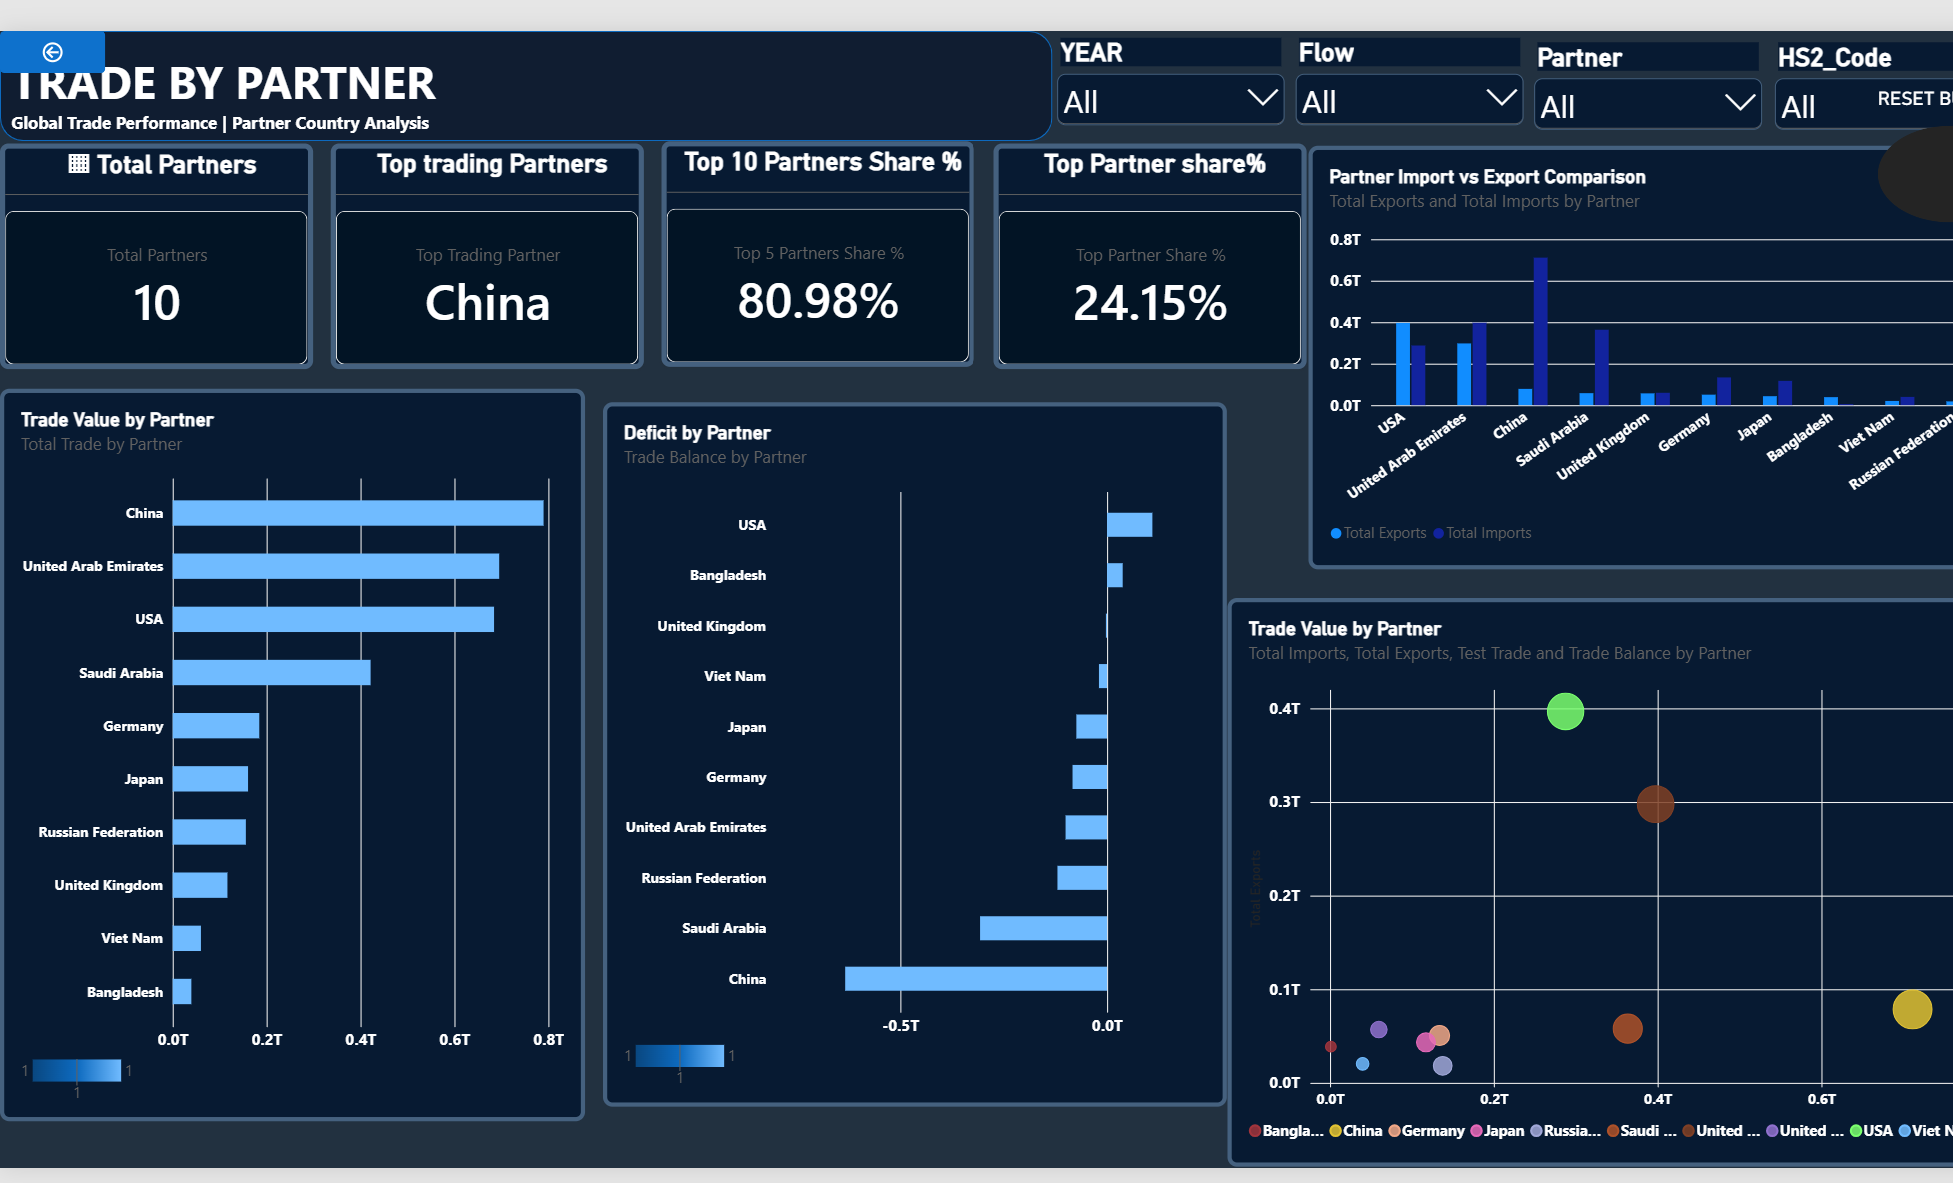

The dashboard page shown, as its layout file describes it:
{"tool":"powerbi","page":{"name":"Trade By Partner","canvas":[1920,1080],"ordinal":2},"visuals":[{"type":"cardVisual","title":"Top trading Partners","fields":{"Data":["Dim_Partner.Top Trading Partner"]},"box":[313.4,106.7,297.4,214.3],"z":0},{"type":"cardVisual","title":"▦ Total Partners","fields":{"Data":["Dim_Partner.Total Partners"]},"box":[0,106.7,297.4,214.3],"z":1000},{"type":"cardVisual","title":"Top 10 Partners Share %","fields":{"Data":["Dim_Partner.Top 10 Partners Share %"]},"box":[629.1,104.5,297.4,214.3],"z":2000},{"type":"cardVisual","title":"Top Partner share%","fields":{"Data":["Dim_Partner.Top Partner Share %"]},"box":[944.7,106.7,297.4,214.3],"z":3000},{"type":"clusteredBarChart","title":"Trade Value by Partner","fields":{"Category":["Dim_Partner.Partner"],"Y":["Fact_Trade.Total Trade"]},"box":[0,340.1,555.7,695.7],"z":4000},{"type":"clusteredBarChart","title":"Deficit by Partner","fields":{"Category":["Dim_Partner.Partner"],"Y":["Fact_Trade.Trade Balance"]},"box":[573.5,340.1,593.5,669.1],"z":5000},{"type":"clusteredColumnChart","title":"Partner Import vs Export Comparison","fields":{"Category":["Dim_Partner.Partner"],"Y":["Fact_Trade.Total Exports","Fact_Trade.Total Imports"]},"box":[1242.6,108.9,678,402.3],"z":6000},{"type":"shape","box":[0,0,1000.3,104.5],"z":7000},{"type":"scatterChart","title":"Trade Value by Partner","fields":{"Series":["Dim_Partner.Partner"],"Size":["Fact_Trade.Test Trade"],"X":["Fact_Trade.Total Imports"],"Y":["Fact_Trade.Total Exports"]},"box":[1167,540.1,753.5,540.1],"z":8000},{"type":"textbox","box":[11.1,0,902.5,104.5],"z":9000},{"type":"slicer","fields":{"Values":["DIm_Year.Year"]},"box":[1000.3,6.7,225.9,109.6],"z":10000},{"type":"slicer","fields":{"Values":["Dim_Flow.Flow"]},"box":[1227,6.7,226.3,93.8],"z":11000},{"type":"slicer","fields":{"Values":["Dim_Partner.Partner"]},"box":[1453.7,11.1,226.3,93.8],"z":12000},{"type":"slicer","fields":{"Values":["Dim_Product.HS2_Code"]},"box":[1680.5,11.1,240.1,104.5],"z":13000}]}

Visuals, with their boxes on the page's 1920x1080 design canvas (x1, y1, x2, y2). These are canvas units, not pixel positions in the 1953x1183 screenshot, which may show the page scaled, cropped or inside an application window:
"Top trading Partners" cardVisual: {"x1": 313, "y1": 107, "x2": 611, "y2": 321}
"▦ Total Partners" cardVisual: {"x1": 0, "y1": 107, "x2": 297, "y2": 321}
"Top 10 Partners Share %" cardVisual: {"x1": 629, "y1": 104, "x2": 926, "y2": 319}
"Top Partner share%" cardVisual: {"x1": 945, "y1": 107, "x2": 1242, "y2": 321}
"Trade Value by Partner" clusteredBarChart: {"x1": 0, "y1": 340, "x2": 556, "y2": 1036}
"Deficit by Partner" clusteredBarChart: {"x1": 574, "y1": 340, "x2": 1167, "y2": 1009}
"Partner Import vs Export Comparison" clusteredColumnChart: {"x1": 1243, "y1": 109, "x2": 1921, "y2": 511}
shape: {"x1": 0, "y1": 0, "x2": 1000, "y2": 104}
"Trade Value by Partner" scatterChart: {"x1": 1167, "y1": 540, "x2": 1920, "y2": 1080}
textbox: {"x1": 11, "y1": 0, "x2": 914, "y2": 104}
slicer - DIm_Year.Year: {"x1": 1000, "y1": 7, "x2": 1226, "y2": 116}
slicer - Dim_Flow.Flow: {"x1": 1227, "y1": 7, "x2": 1453, "y2": 100}
slicer - Dim_Partner.Partner: {"x1": 1454, "y1": 11, "x2": 1680, "y2": 105}
slicer - Dim_Product.HS2_Code: {"x1": 1680, "y1": 11, "x2": 1921, "y2": 116}
